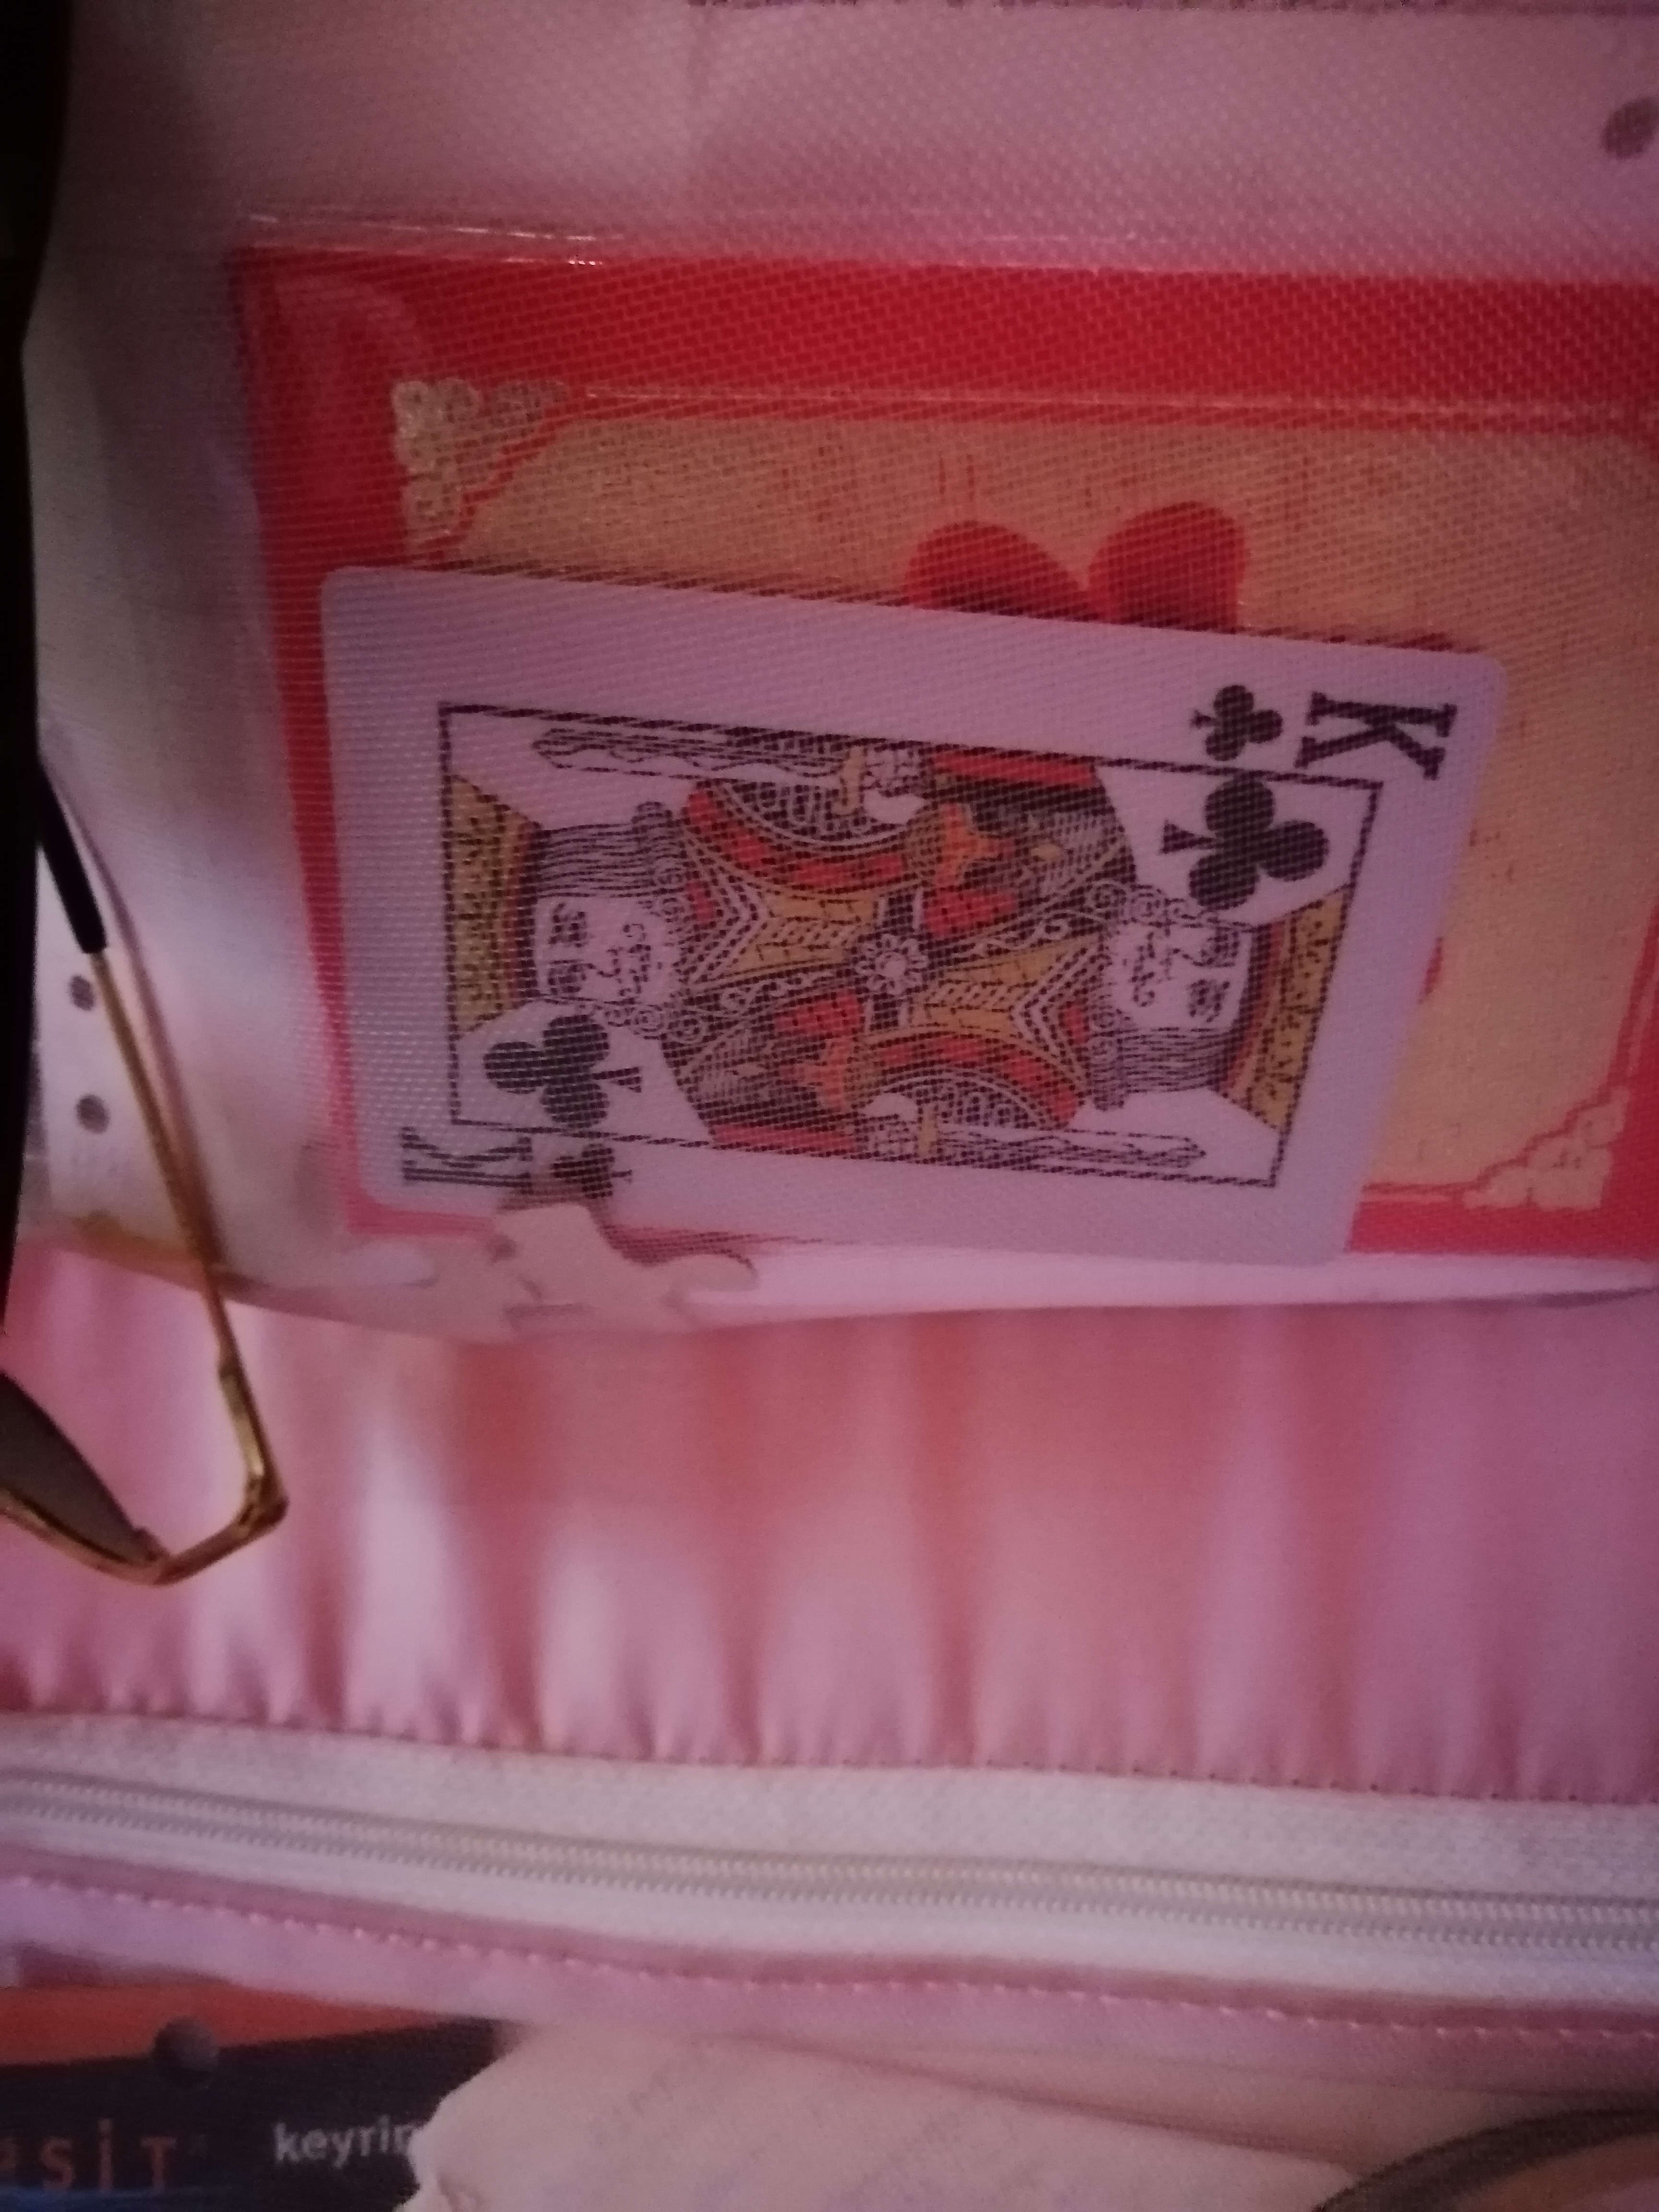king: (281, 568, 1469, 1303)
